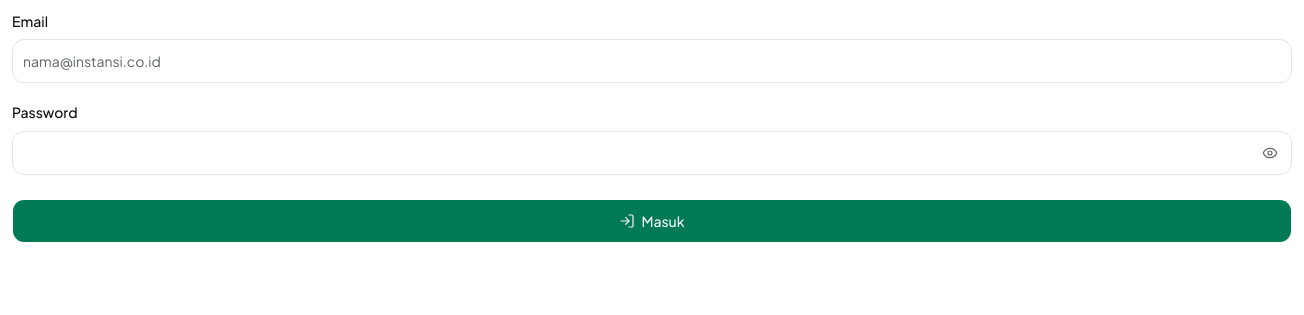
Test: LoginForm (validasi tanpa Zod) › kosong → pesan wajib diisi, tanpa request
Step 1. Click the button "Masuk" → (652, 220), box [12,198,1292,242]
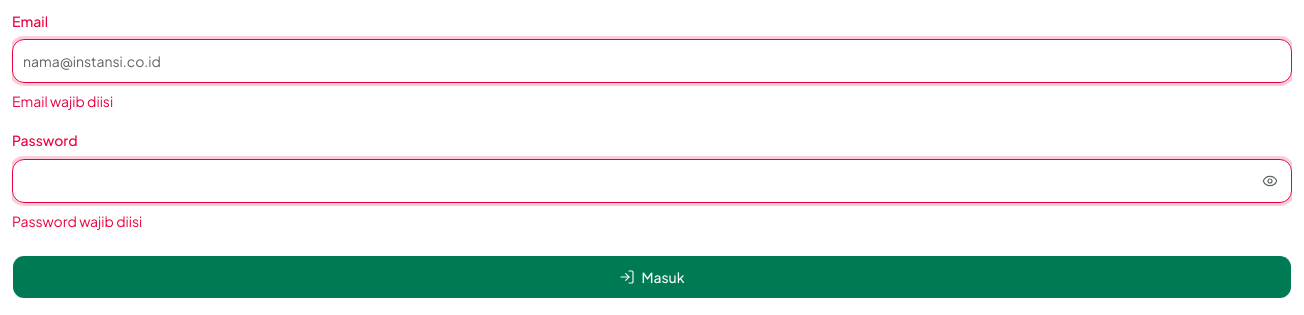
Check: the text "Email wajib diisi" is shown, box [12,92,113,110]
Check: the text "Password wajib diisi" is shown, box [12,212,142,230]
